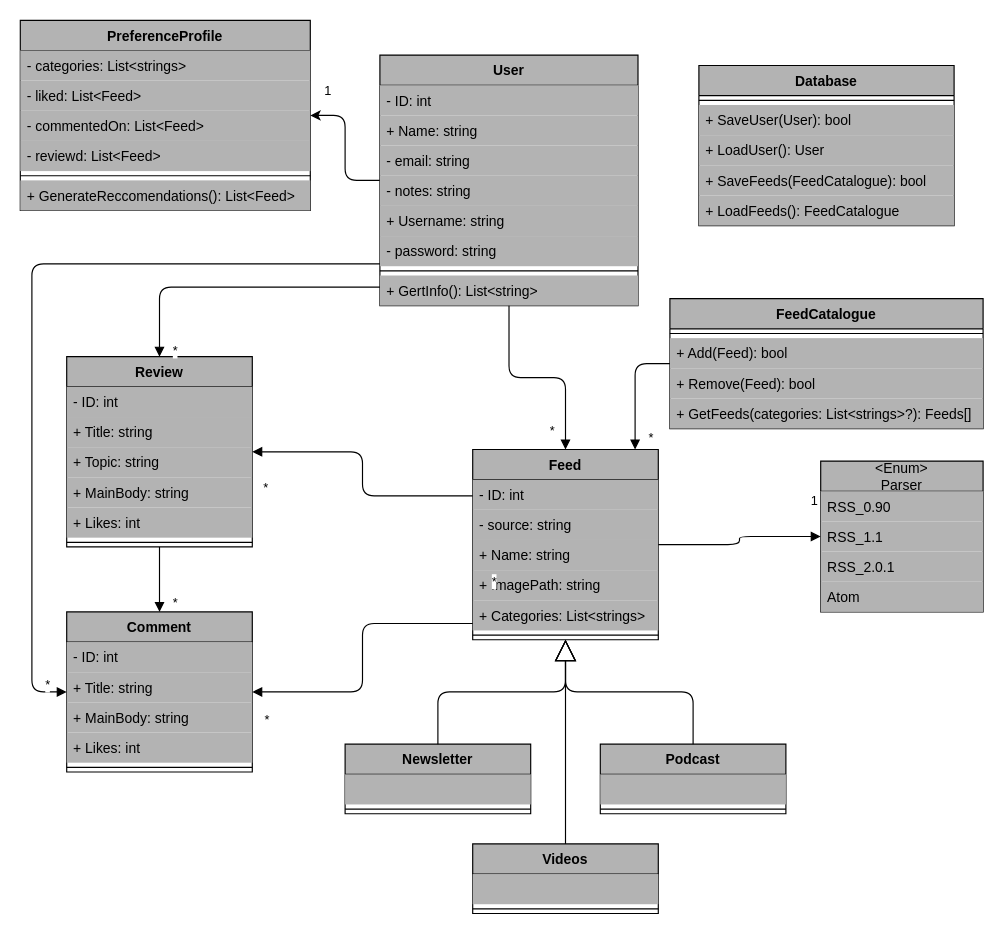
Some shapes in this 1003 by 934 pixel diagram are drawn without their labels. The shapes that lost their labels are listed below. From the top down, each one's centre as x and y in pixels, then its label:
the point at 437,789: + Publication: string
the point at 692,789: + Episodes: int
the point at 565,888: + Channel: string
